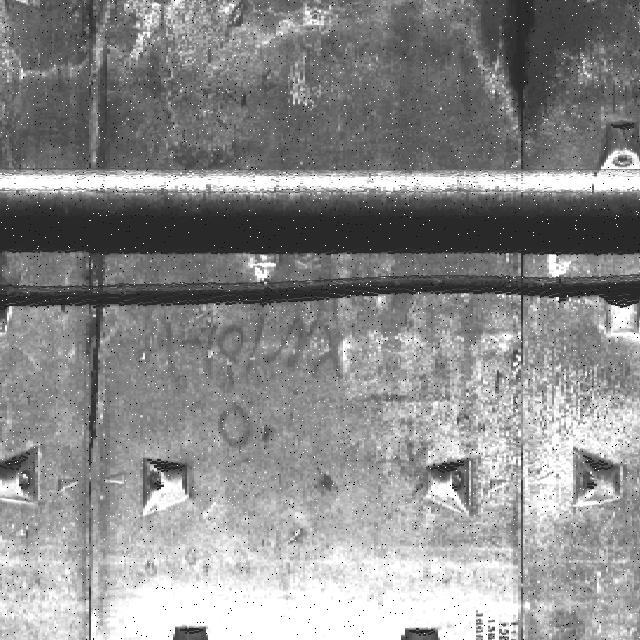leakage: (453, 1, 594, 150)
